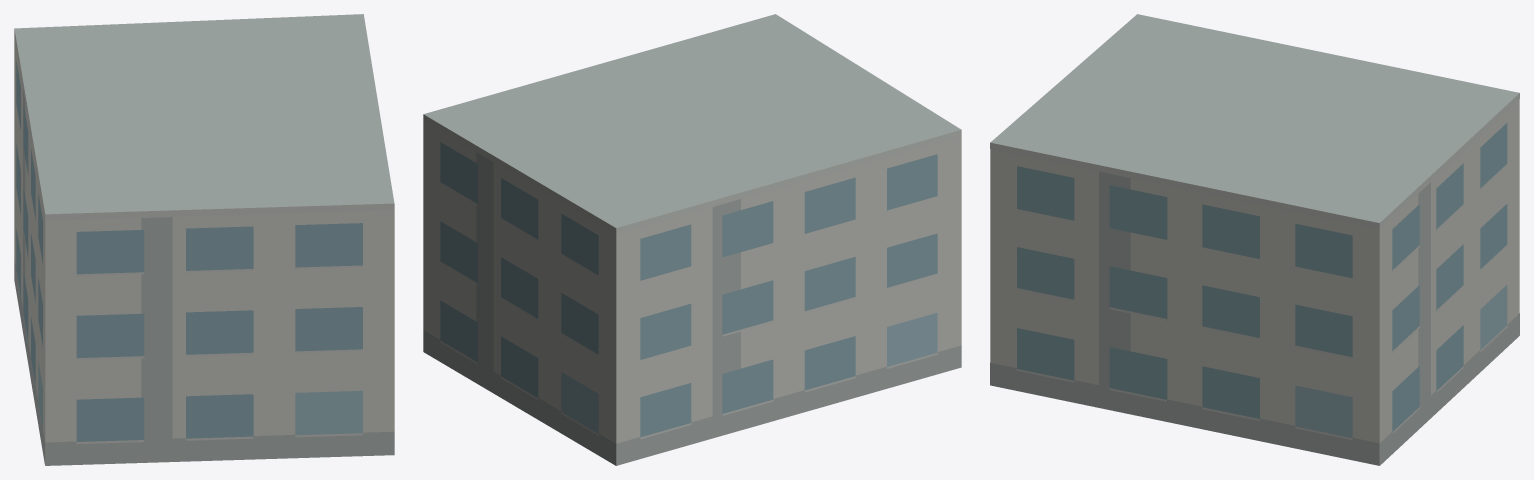
File: survey-upis-32962175.glb
3 renders of one model, left to right at view 1: azimuth 30°, elevation 25°; view 2: azimuth 150°, elevation 25°; view 3: azimuth 270°, elevation 25°, orthographic. The views are drawn at different scales.
Parts seen in each view (by area): view 1: survey-upis-32962175.tmp; view 2: survey-upis-32962175.tmp; view 3: survey-upis-32962175.tmp.
Boxes of the visible parts, x1,y1,x2,y2 form: survey-upis-32962175.tmp: (14, 14, 394, 465); survey-upis-32962175.tmp: (423, 14, 961, 465); survey-upis-32962175.tmp: (990, 14, 1519, 465).
Bounding box in the file's own units: 16.91 × 9.15 × 18.1.
